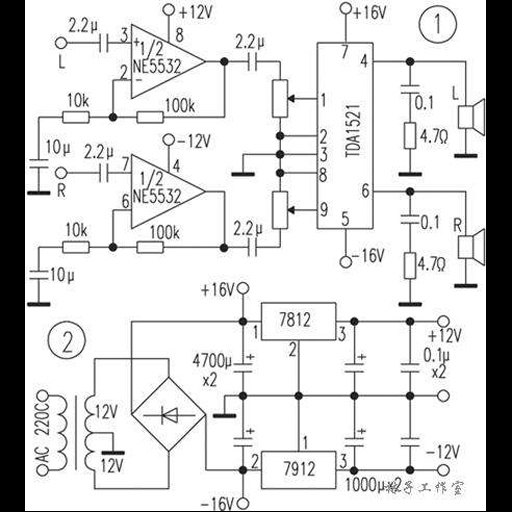capacitor: (241, 234, 265, 260), (93, 158, 113, 187), (396, 359, 424, 377), (26, 153, 49, 173), (397, 210, 421, 228), (27, 266, 50, 284), (95, 32, 112, 55), (397, 78, 420, 95), (245, 50, 260, 75), (400, 434, 422, 450)
firstpolarcapacitor: (339, 353, 371, 378), (232, 355, 264, 377), (339, 427, 370, 449), (231, 424, 257, 449)
firstresistance: (55, 109, 94, 128), (132, 107, 166, 128), (55, 238, 95, 255), (399, 118, 418, 153), (131, 239, 167, 257), (401, 249, 418, 283)
loudspeaker: (455, 97, 487, 138), (450, 230, 485, 265)
transformer: (56, 394, 95, 473)
